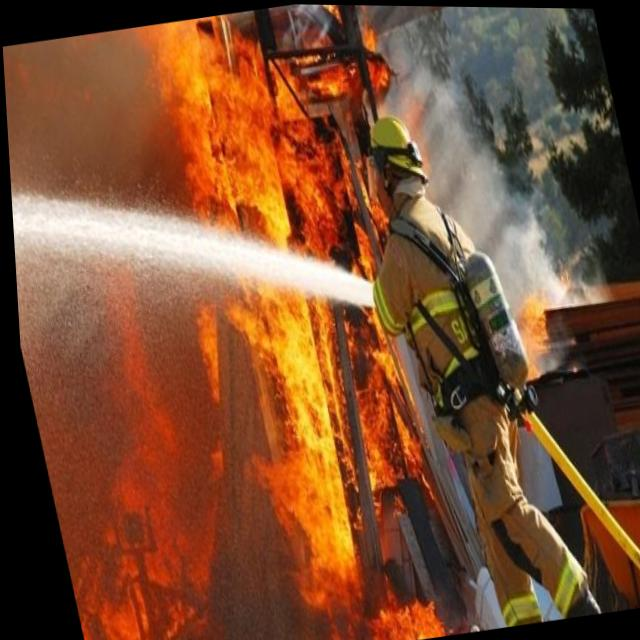fire: (133, 2, 509, 640)
